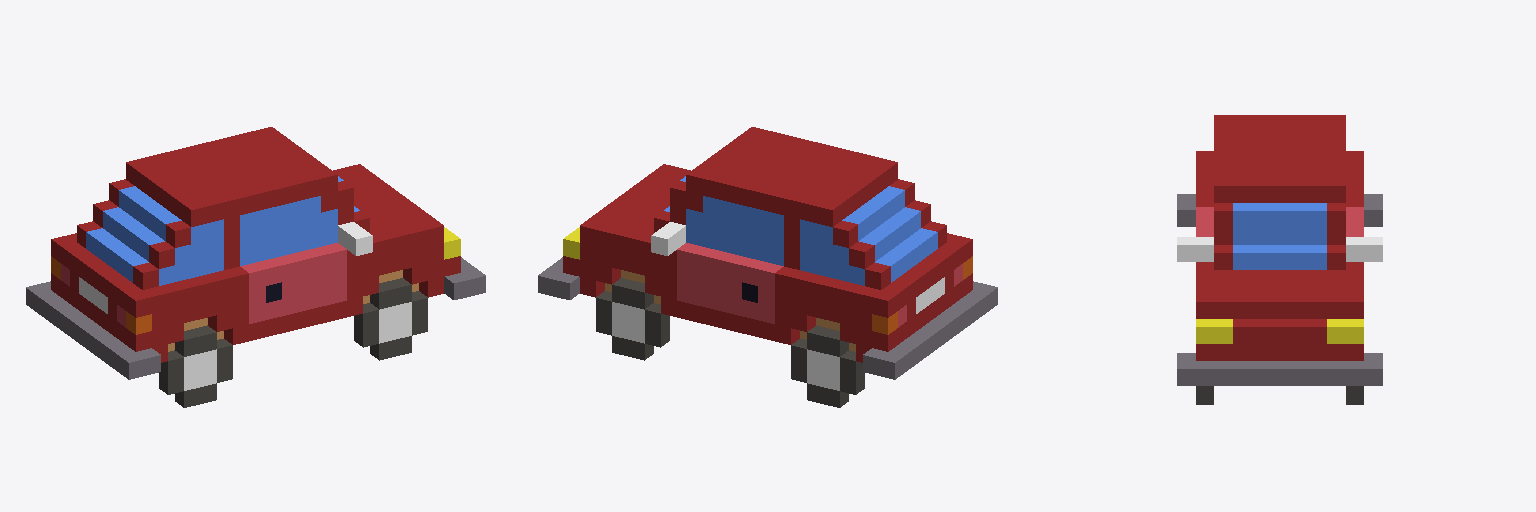
The picture shows the model from 3 angles: view 1: azimuth 30°, elevation 25°; view 2: azimuth 150°, elevation 25°; view 3: azimuth 270°, elevation 25°; orthographic projection.
Visible parts, largest first — view 1: car1; view 2: car1; view 3: car1.
Boxes of the visible parts, x1=… form: car1: x1=26, y1=127, x2=485, y2=407; car1: x1=538, y1=127, x2=997, y2=407; car1: x1=1177, y1=115, x2=1382, y2=404.
Size of the model in its own units: 2.2 by 1.1 by 1.1.
1 materials, 1 textured.